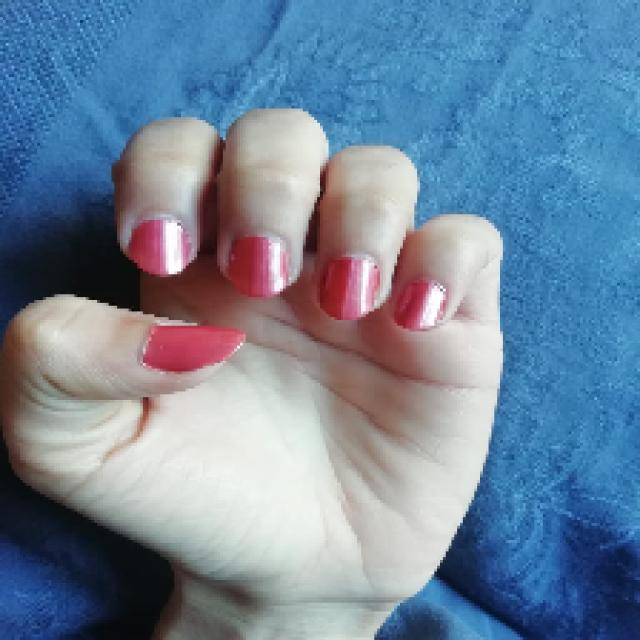Nail: (141, 325, 245, 372), (320, 254, 380, 320), (228, 235, 289, 297), (129, 220, 191, 276), (395, 281, 448, 330)
